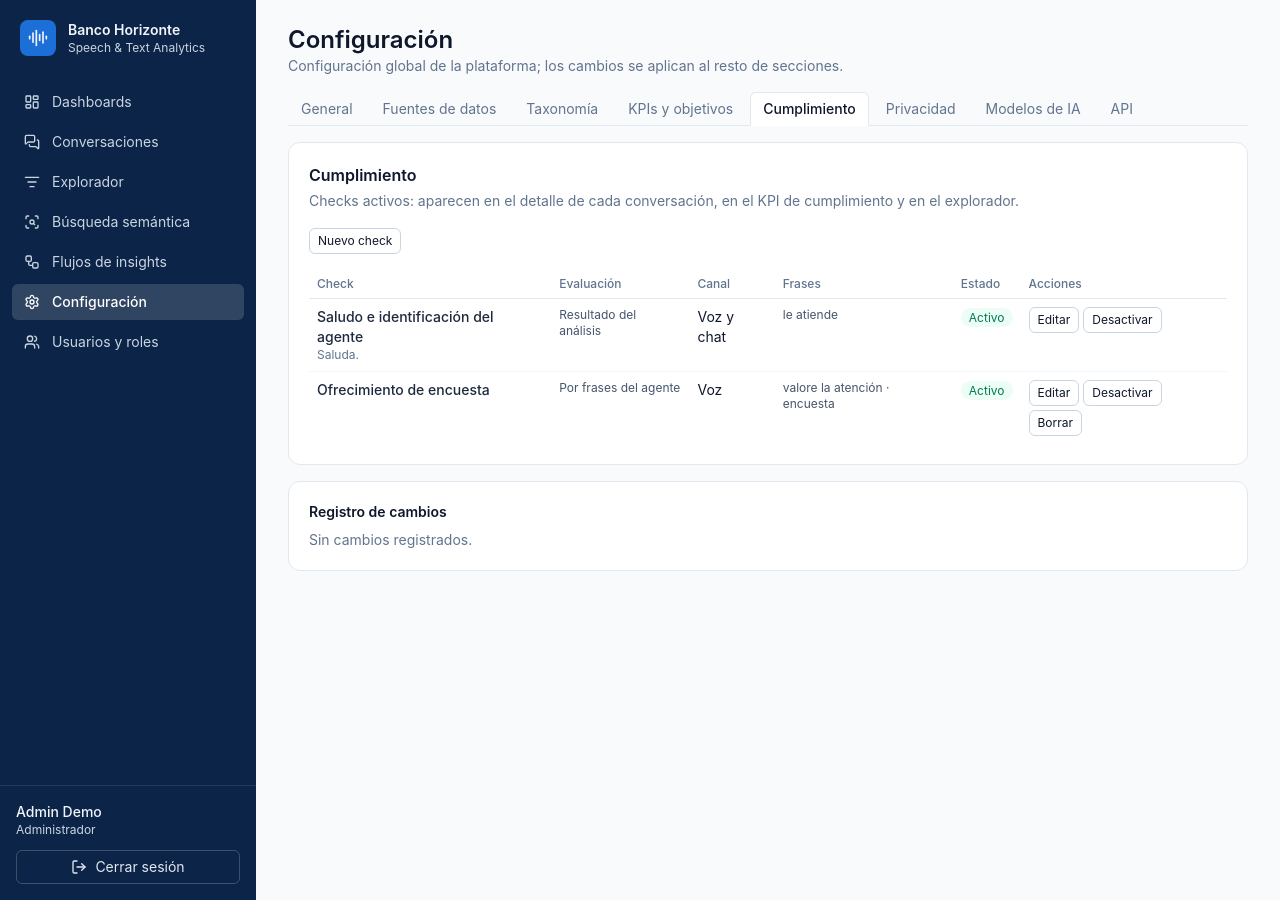
Test case: Configuración: Cumplimiento › editar las frases de un check del análisis avisa de que no cambia su resultado
What coordinates should you click on to do the following:
click the button "Editar" in the row of "Saludo e identificación del agente"
I would click on:
 (1054, 320)
Its box is [1028, 307, 1079, 333].
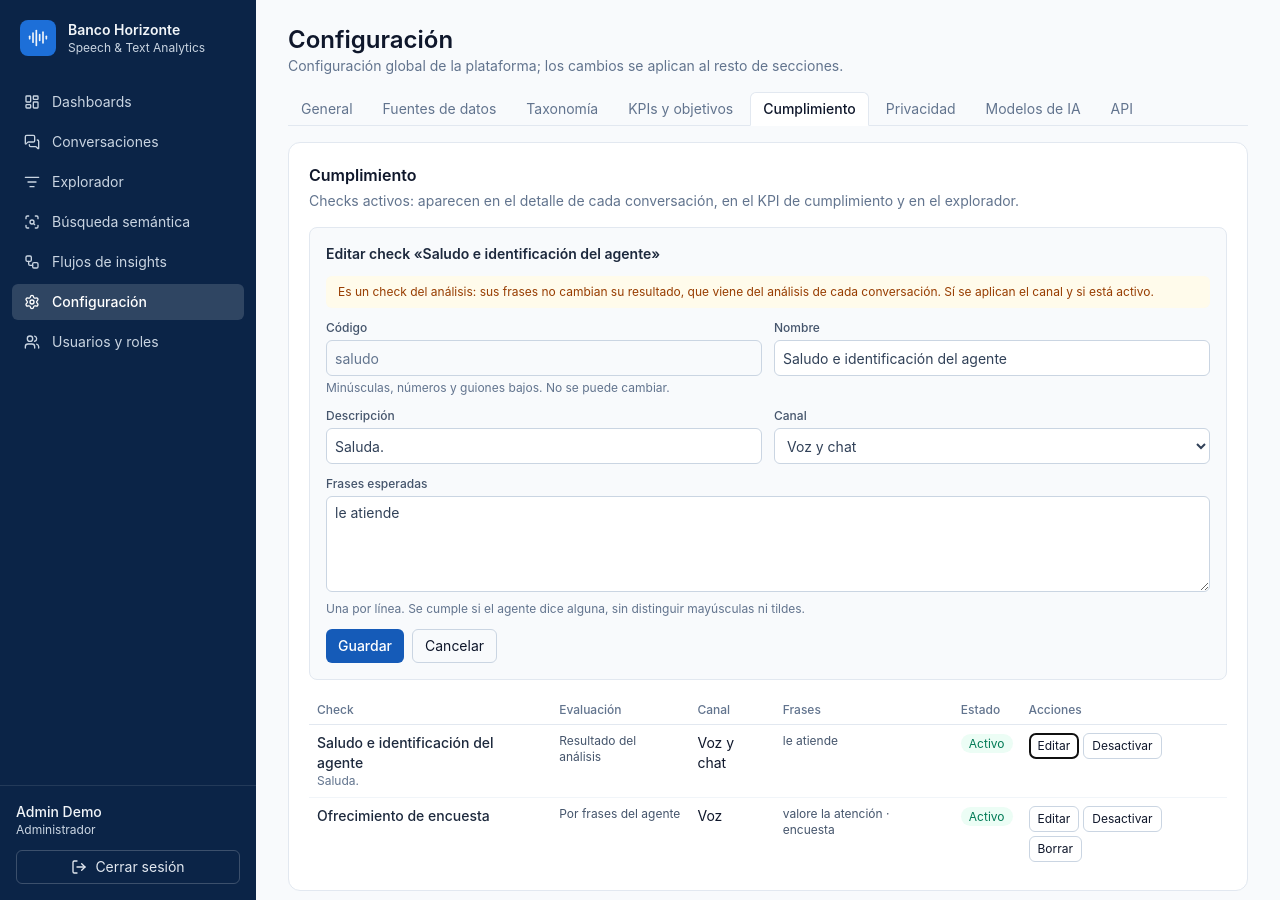
Check: the form "Editar check" shows "sus frases no cambian su resultado", box [338, 284, 1154, 299]
Check: the text box labelled "Frases esperadas" holds "le atiende", box [326, 496, 1210, 592]
